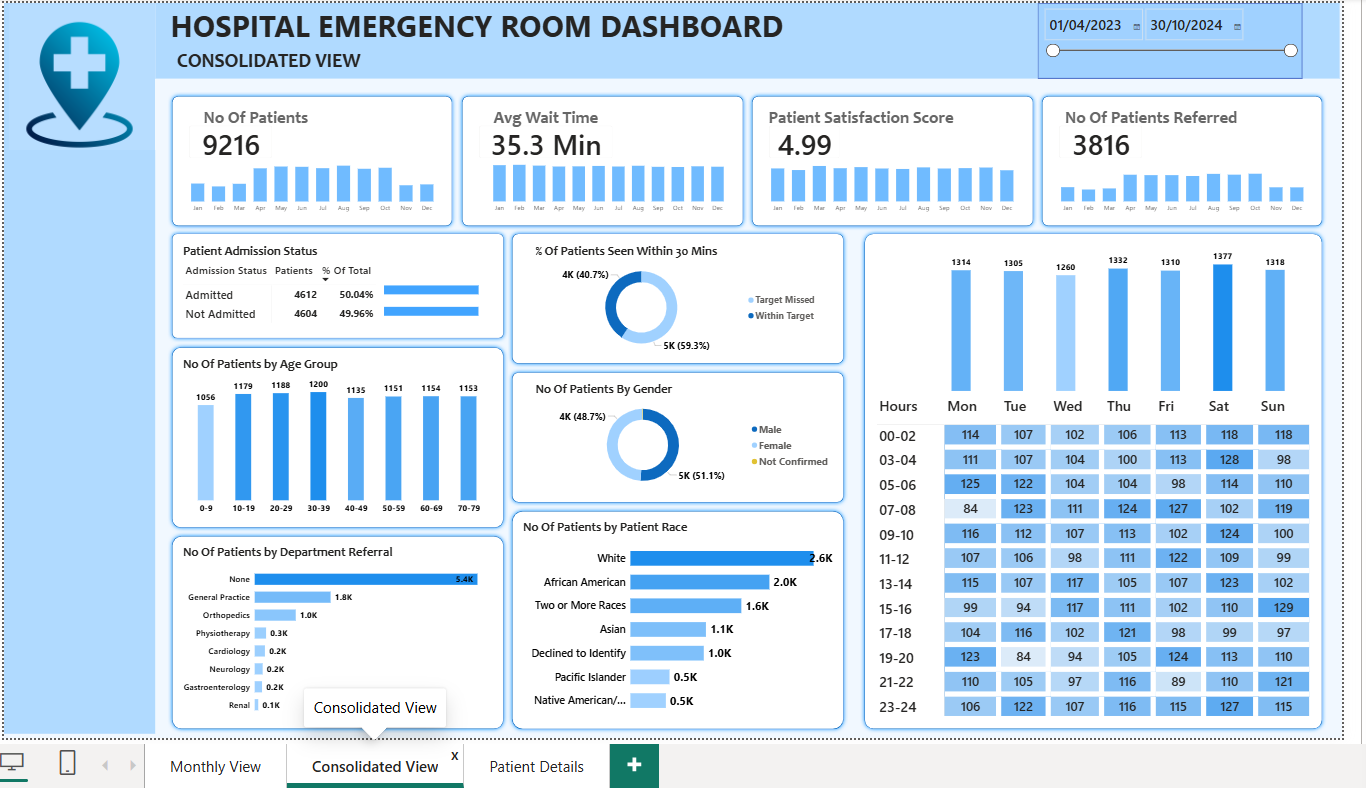

The page's visual inventory and layout, read from the dashboard file:
{"tool":"powerbi","page":{"name":"Consolidated View","canvas":[2550,1400],"ordinal":1},"visuals":[{"type":"textbox","box":[10,0,280,280],"z":0},{"type":"shape","box":[0,0,288,1392],"z":1000},{"type":"shape","box":[288,0,2256,144],"z":2000},{"type":"textbox","box":[312,0,1248,96],"z":3000},{"type":"textbox","box":[312,72,384,72],"z":4000},{"type":"slicer","fields":{"Values":["Date Table.Date"]},"box":[1968,0,504,144],"z":5000},{"type":"shape","box":[312,168,550,264],"z":6000},{"type":"cardVisual","fields":{"Data":["Hospital ER_Data.No Of Patients"]},"box":[336,216,192,96],"z":7000},{"type":"textbox","box":[336,192,288,72],"z":8000},{"type":"columnChart","fields":{"Y":["Hospital ER_Data.No Of Patients"],"Category":["Date Table.Month"]},"box":[336,264,504,144],"z":9000},{"type":"shape","box":[864,168,552,264],"z":10000},{"type":"cardVisual","fields":{"Data":["Hospital ER_Data.Avg Wait Time"]},"box":[888,216,288,96],"z":11000},{"type":"textbox","box":[888,192,288,72],"z":12000},{"type":"columnChart","fields":{"Y":["Avg(Hospital ER_Data.Patient Waittime)"],"Category":["Date Table.Month"]},"box":[912,288,480,120],"z":13000},{"type":"shape","box":[1416,168,552,264],"z":14000},{"type":"cardVisual","fields":{"Data":["Hospital ER_Data.Satisfaction Score"]},"box":[1440,216,168,96],"z":15000},{"type":"textbox","box":[1440,192,384,72],"z":16000},{"type":"columnChart","fields":{"Y":["Hospital ER_Data.Satisfaction Score"],"Category":["Date Table.Month"]},"box":[1440,288,504,120],"z":17000},{"type":"shape","box":[1968,168,550,264],"z":18000},{"type":"cardVisual","fields":{"Data":["Hospital ER_Data.No of Patient Referred"]},"box":[1992,216,192,96],"z":19000},{"type":"textbox","box":[1968,192,432,72],"z":20000},{"type":"columnChart","fields":{"Category":["Date Table.Month"],"Y":["Hospital ER_Data.No of Patient Referred"]},"box":[1992,288,504,120],"z":21000},{"type":"shape","box":[312,432,648,216],"z":22000},{"type":"pivotTable","title":"Patient Admission Status","fields":{"Rows":["Hospital ER_Data.Admission Status"],"Values":["Hospital ER_Data.No Of Patients1","Hospital ER_Data.No Of Patients"]},"box":[336,456,576,168],"z":23000},{"type":"barChart","fields":{"Y":["Hospital ER_Data.No Of Patients"],"Category":["Hospital ER_Data.Admission Status"]},"box":[720,504,216,120],"z":24000},{"type":"shape","box":[312,648,648,360],"z":25000},{"type":"clusteredColumnChart","fields":{"Category":["Hospital ER_Data.Age Group"],"Y":["Hospital ER_Data.No Of Patients"]},"box":[336,672,600,312],"z":26000},{"type":"shape","box":[312,1008,648,384],"z":27000},{"type":"clusteredBarChart","fields":{"Category":["Hospital ER_Data.Department Referral"],"Y":["Hospital ER_Data.No Of Patients"]},"box":[336,1032,600,336],"z":28000},{"type":"shape","box":[960,432,648,264],"z":29000},{"type":"donutChart","title":"% Of Patients Seen Within 30 Mins","fields":{"Category":["Hospital ER_Data.Waittime Status"],"Y":["Hospital ER_Data.No Of Patients"]},"box":[1008,456,552,216],"z":30000},{"type":"shape","box":[960,696,648,264],"z":31000},{"type":"donutChart","title":"No Of Patients By Gender","fields":{"Y":["Hospital ER_Data.No Of Patients"],"Category":["Hospital ER_Data.Patient Gender"]},"box":[1008,720,576,216],"z":32000},{"type":"shape","box":[960,960,648,432],"z":33000},{"type":"clusteredBarChart","fields":{"Y":["Hospital ER_Data.No Of Patients"],"Category":["Hospital ER_Data.Patient Race"]},"box":[984,984,600,384],"z":34000},{"type":"shape","box":[1632,432,888,960],"z":35000},{"type":"pivotTable","fields":{"Rows":["Hospital ER_Data.Waittime Interval"],"Columns":["Date Table.Day Name"],"Values":["Hospital ER_Data.No Of Patients"]},"box":[1656,744,840,624],"z":36000},{"type":"columnChart","title":"No Of Patients by Day And Hour","fields":{"Category":["Date Table.Day Name"],"Y":["Hospital ER_Data.No Of Patients"]},"box":[1800,456,648,288],"z":37000},{"type":"image","box":[24,24,240,264],"z":38000},{"type":"pageNavigator","box":[24,432,240,552],"z":39000},{"type":"textbox","box":[0,1200,288,120],"z":40000}]}

Visuals, with their boxes on the page's 2550x1400 design canvas (x1, y1, x2, y2). These are canvas units, not pixel positions in the 1366x788 screenshot, which may show the page scaled, cropped or inside an application window:
textbox: (x1=10, y1=0, x2=290, y2=280)
shape: (x1=0, y1=0, x2=288, y2=1392)
shape: (x1=288, y1=0, x2=2544, y2=144)
textbox: (x1=312, y1=0, x2=1560, y2=96)
textbox: (x1=312, y1=72, x2=696, y2=144)
slicer - Date Table.Date: (x1=1968, y1=0, x2=2472, y2=144)
shape: (x1=312, y1=168, x2=862, y2=432)
cardVisual - Hospital ER_Data.No Of Patients: (x1=336, y1=216, x2=528, y2=312)
textbox: (x1=336, y1=192, x2=624, y2=264)
columnChart - Hospital ER_Data.No Of Patients x Date Table.Month: (x1=336, y1=264, x2=840, y2=408)
shape: (x1=864, y1=168, x2=1416, y2=432)
cardVisual - Hospital ER_Data.Avg Wait Time: (x1=888, y1=216, x2=1176, y2=312)
textbox: (x1=888, y1=192, x2=1176, y2=264)
columnChart - Avg(Hospital ER_Data.Patient Waittime) x Date Table.Month: (x1=912, y1=288, x2=1392, y2=408)
shape: (x1=1416, y1=168, x2=1968, y2=432)
cardVisual - Hospital ER_Data.Satisfaction Score: (x1=1440, y1=216, x2=1608, y2=312)
textbox: (x1=1440, y1=192, x2=1824, y2=264)
columnChart - Hospital ER_Data.Satisfaction Score x Date Table.Month: (x1=1440, y1=288, x2=1944, y2=408)
shape: (x1=1968, y1=168, x2=2518, y2=432)
cardVisual - Hospital ER_Data.No of Patient Referred: (x1=1992, y1=216, x2=2184, y2=312)
textbox: (x1=1968, y1=192, x2=2400, y2=264)
columnChart - Date Table.Month x Hospital ER_Data.No of Patient Referred: (x1=1992, y1=288, x2=2496, y2=408)
shape: (x1=312, y1=432, x2=960, y2=648)
"Patient Admission Status" pivotTable: (x1=336, y1=456, x2=912, y2=624)
barChart - Hospital ER_Data.No Of Patients x Hospital ER_Data.Admission Status: (x1=720, y1=504, x2=936, y2=624)
shape: (x1=312, y1=648, x2=960, y2=1008)
clusteredColumnChart - Hospital ER_Data.Age Group x Hospital ER_Data.No Of Patients: (x1=336, y1=672, x2=936, y2=984)
shape: (x1=312, y1=1008, x2=960, y2=1392)
clusteredBarChart - Hospital ER_Data.Department Referral x Hospital ER_Data.No Of Patients: (x1=336, y1=1032, x2=936, y2=1368)
shape: (x1=960, y1=432, x2=1608, y2=696)
"% Of Patients Seen Within 30 Mins" donutChart: (x1=1008, y1=456, x2=1560, y2=672)
shape: (x1=960, y1=696, x2=1608, y2=960)
"No Of Patients By Gender" donutChart: (x1=1008, y1=720, x2=1584, y2=936)
shape: (x1=960, y1=960, x2=1608, y2=1392)
clusteredBarChart - Hospital ER_Data.No Of Patients x Hospital ER_Data.Patient Race: (x1=984, y1=984, x2=1584, y2=1368)
shape: (x1=1632, y1=432, x2=2520, y2=1392)
pivotTable - Hospital ER_Data.Waittime Interval x Date Table.Day Name: (x1=1656, y1=744, x2=2496, y2=1368)
"No Of Patients by Day And Hour" columnChart: (x1=1800, y1=456, x2=2448, y2=744)
image: (x1=24, y1=24, x2=264, y2=288)
pageNavigator: (x1=24, y1=432, x2=264, y2=984)
textbox: (x1=0, y1=1200, x2=288, y2=1320)
